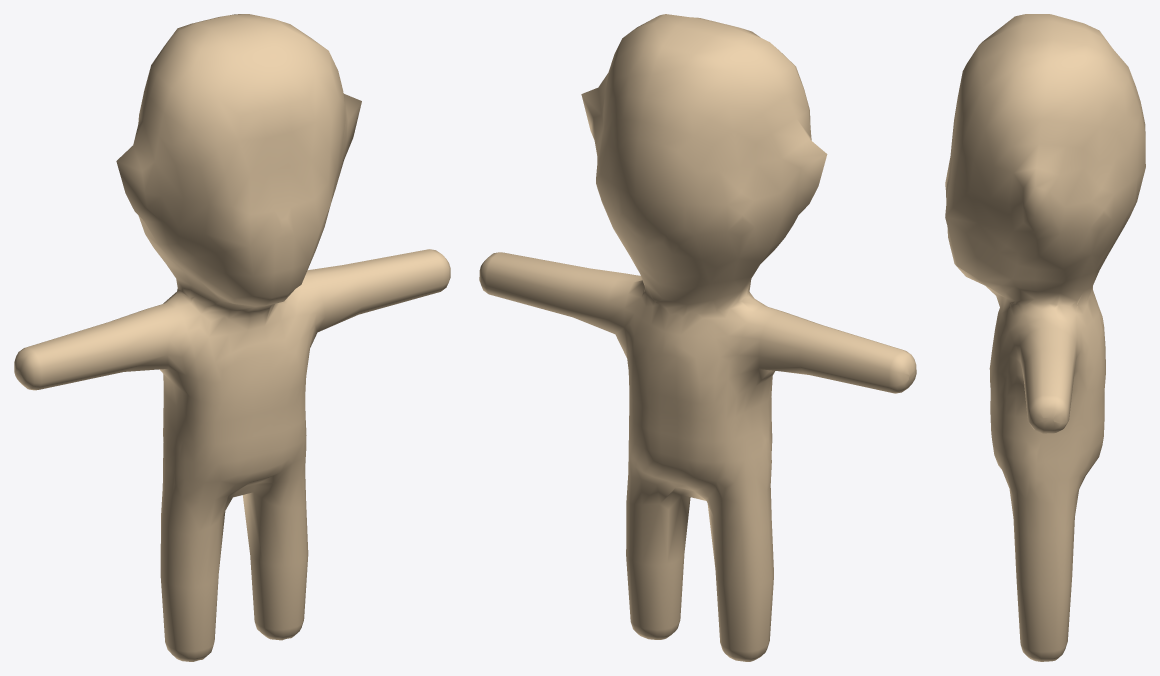
The model's file is Test mixamo.fbx.
The picture shows the model from 3 angles, left to right: view 1: azimuth 30°, elevation 25°; view 2: azimuth 150°, elevation 25°; view 3: azimuth 270°, elevation 25°; orthographic projection. The views are drawn at different scales.
Parts seen in each view (by area): view 1: Body; view 2: Body; view 3: Body.
Boxes of the visible parts, x1,y1,x2,y2 form: Body: [14, 14, 450, 661]; Body: [479, 14, 916, 661]; Body: [945, 14, 1145, 661].
Size of the model in its own units: 634 by 877 by 263.
